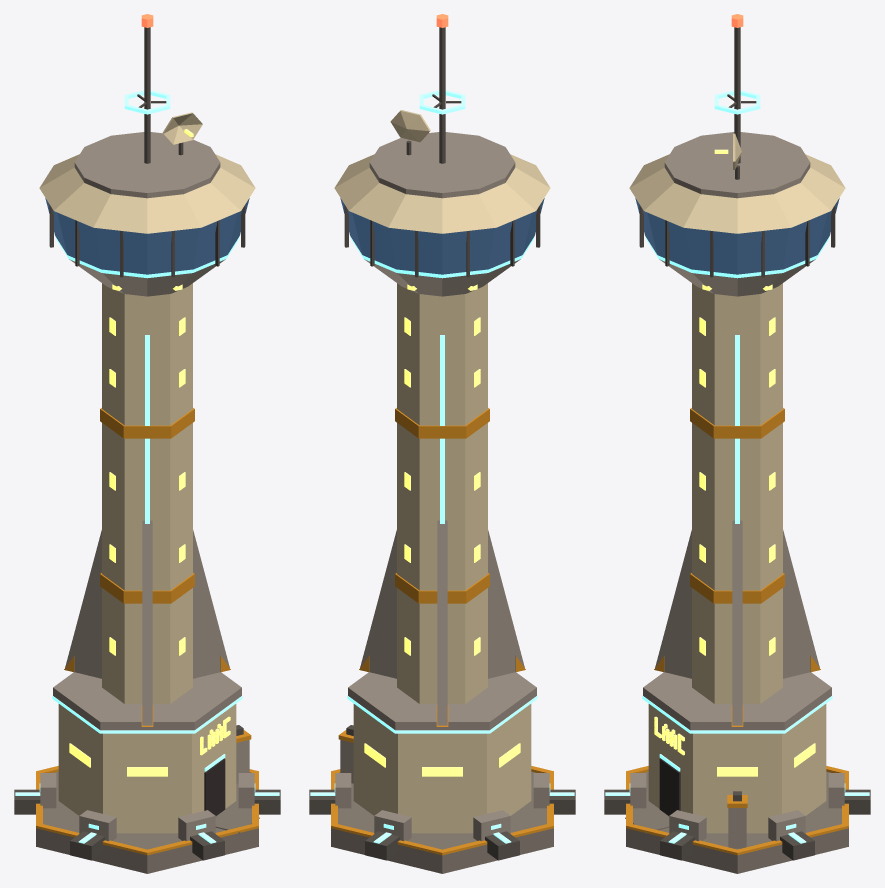
Rendered from laac.glb.
3 renders of one model, left to right at view 1: azimuth 30°, elevation 25°; view 2: azimuth 150°, elevation 25°; view 3: azimuth 270°, elevation 25°, orthographic.
Visible parts, largest first — view 1: vez, radar; view 2: vez, radar; view 3: vez.
Boxes of the visible parts, x1=… form: vez: x1=14, y1=14, x2=280, y2=873; radar: x1=162, y1=112, x2=202, y2=155; vez: x1=309, y1=14, x2=575, y2=873; radar: x1=390, y1=110, x2=430, y2=155; vez: x1=604, y1=14, x2=870, y2=873.
Bounding box in the file's own units: 11.32 × 38.9 × 11.7.
